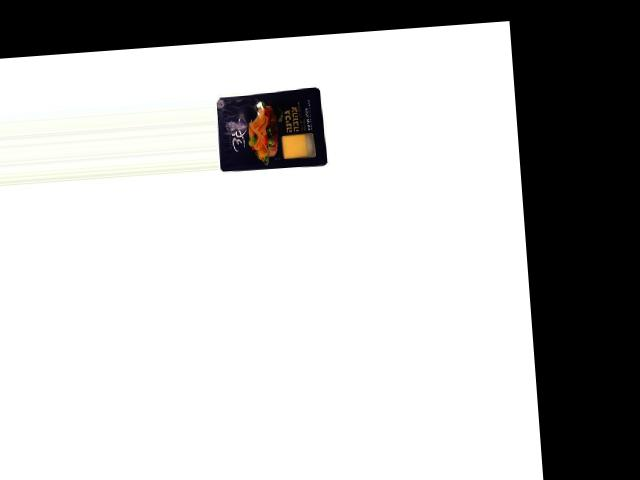cheese: (213, 84, 327, 172)
